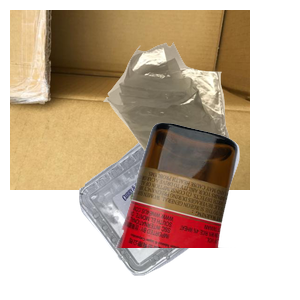cardboard: (10, 10, 250, 190)
glass: (113, 120, 300, 300)
plastic: (77, 133, 289, 300)
trash: (101, 40, 300, 192)
